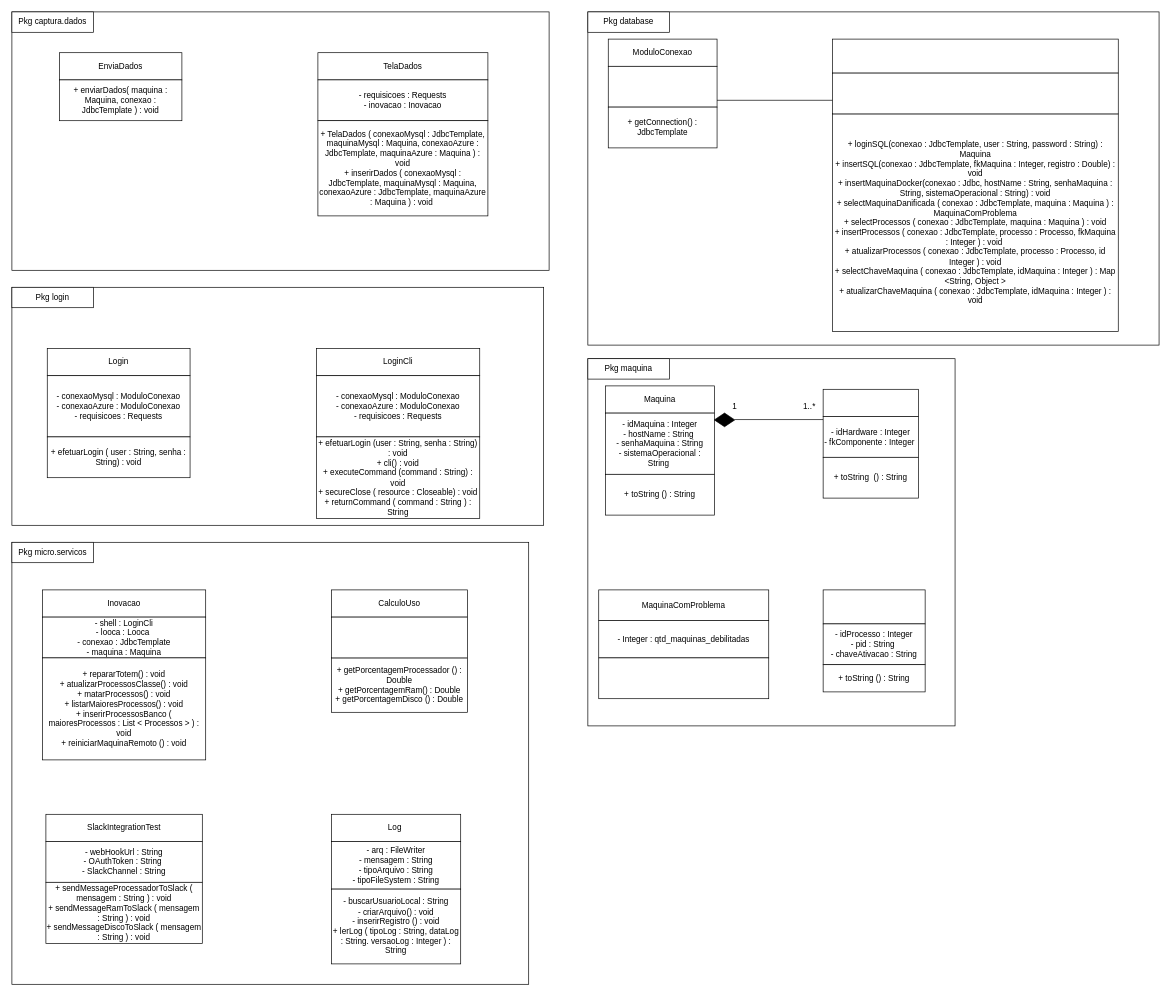
This 1171x996 diagram has some shape labels left out. Here are the shapes that lost their labels. From the top down, the centre of each, then its label:
(x=975, y=55): Requests
(x=662, y=86): - ambiente : String - connection : JdbcTemplate
(x=870, y=403): HardMaquina
(x=873, y=606): TopProcesso
